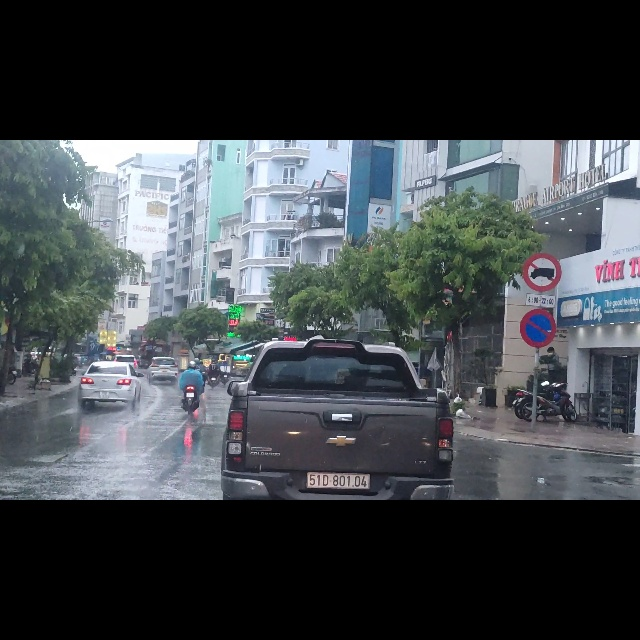bien_cam: (522, 201, 562, 271), (519, 298, 556, 369)
